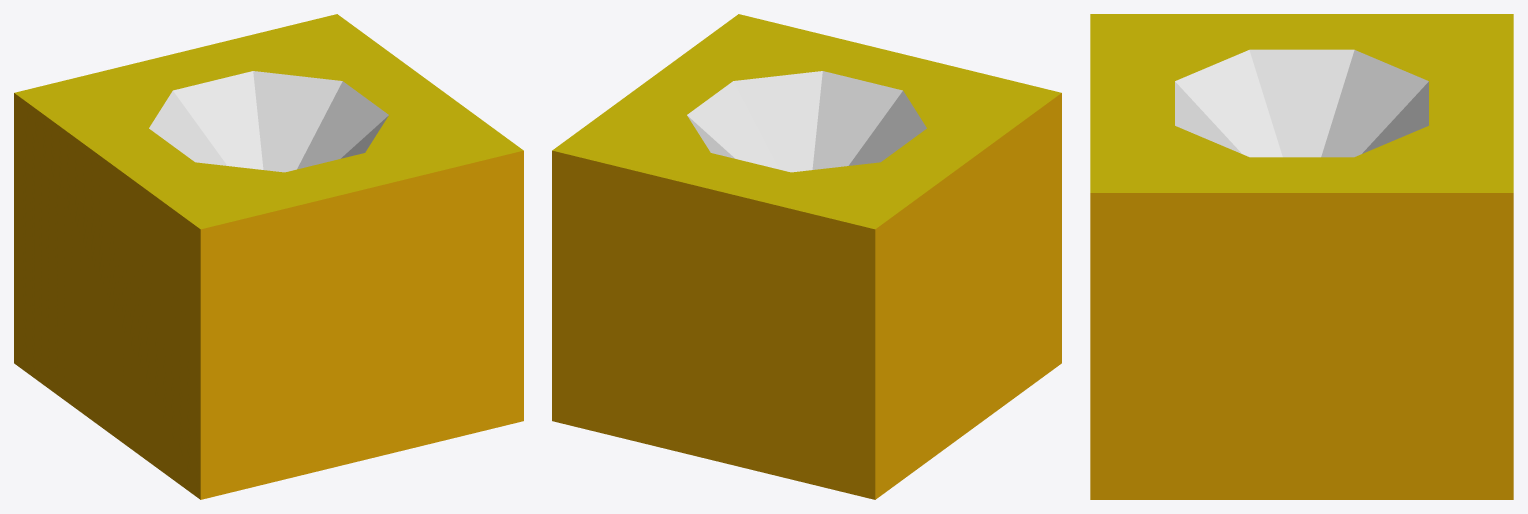
The model's file is searchlight_block.dae.
The picture shows the model from 3 angles, left to right: view 1: azimuth 30°, elevation 25°; view 2: azimuth 150°, elevation 25°; view 3: azimuth 270°, elevation 25°; orthographic projection. The views are drawn at different scales.
Visible parts, largest first — view 1: Cube; view 2: Cube; view 3: Cube.
Part boxes in pixels (x1,y1,x2,y2): Cube: (14, 14, 523, 499); Cube: (552, 14, 1061, 499); Cube: (1090, 14, 1513, 499).
Size of the model in its own units: 0.25 by 0.25 by 0.2.
